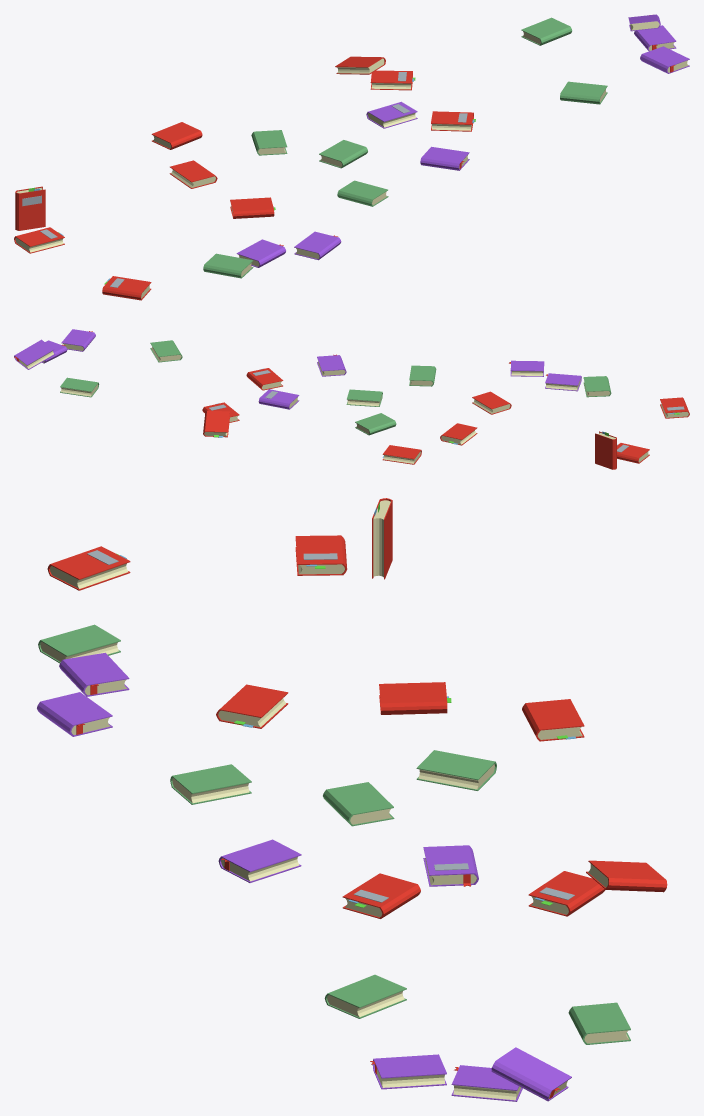
The model's file is bookPiles_01.fbx.
3 renders of one model, top to bottom at view 1: azimuth 30°, elevation 25°; view 2: azimuth 150°, elevation 25°; view 3: azimuth 270°, elevation 25°, orthographic. The views are drawn at different scales.
Parts seen in each view (by area): view 1: book_piles_01; view 2: book_piles_01; view 3: book_piles_01.
Part boxes in pixels (x1,y1,x2,y2): book_piles_01: (14, 14, 689, 300); book_piles_01: (14, 329, 689, 469); book_piles_01: (37, 498, 667, 1101).
Size of the model in its own units: 597 by 32.16 by 284.
